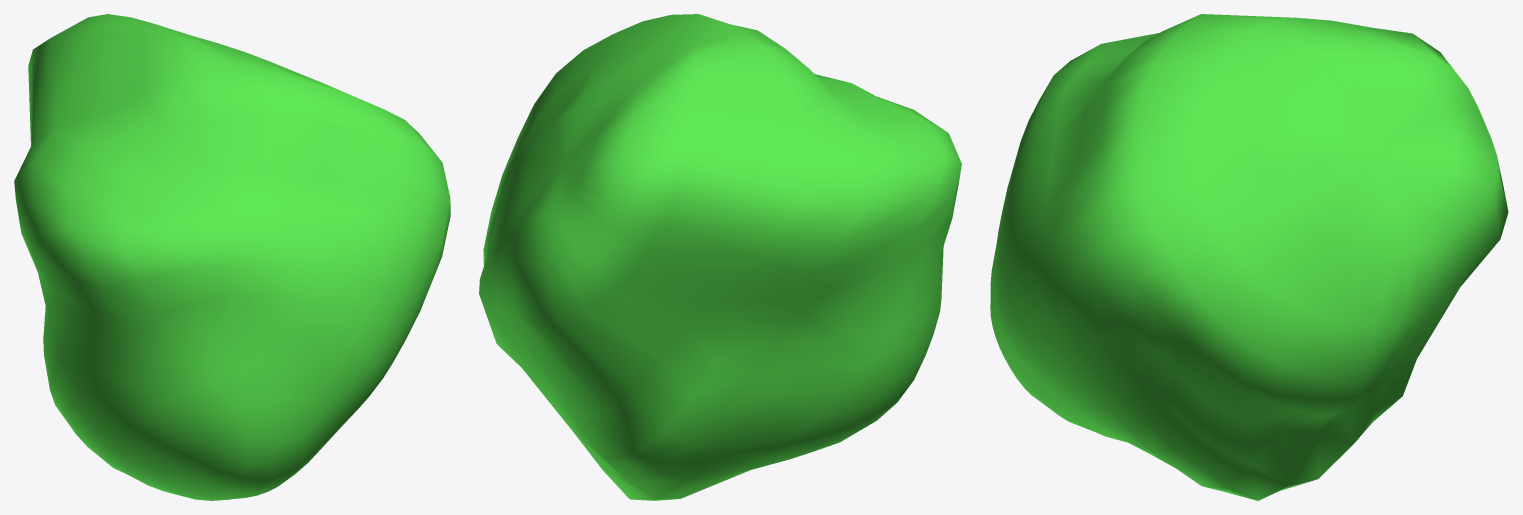
The model's file is folhasdearvore4.fbx.
3 views of the same model, side by side, from view 1: azimuth 30°, elevation 25°; view 2: azimuth 150°, elevation 25°; view 3: azimuth 270°, elevation 25° (orthographic). The views are drawn at different scales.
Visible parts, largest first — view 1: folhasdearvore4; view 2: folhasdearvore4; view 3: folhasdearvore4.
Part boxes in pixels (x1,y1,x2,y2): folhasdearvore4: [14, 14, 450, 500]; folhasdearvore4: [479, 14, 961, 500]; folhasdearvore4: [990, 14, 1508, 500].
Size of the model in its own units: 578 by 610 by 634.
